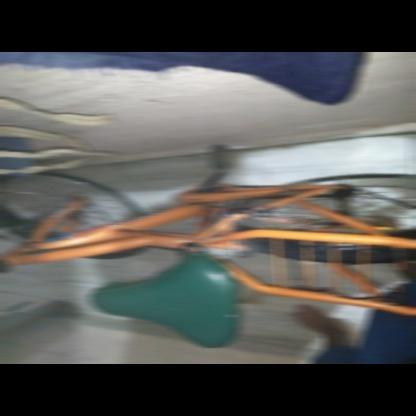Bicycle: (0, 130, 414, 367)
